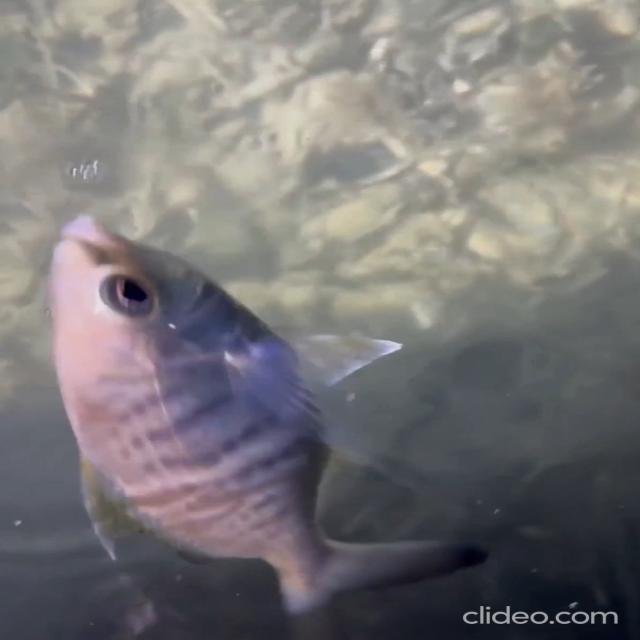fish: (32, 203, 499, 630)
